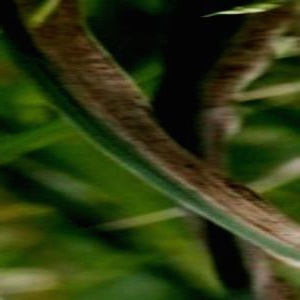Leaf_Blast: (21, 17, 136, 148)
